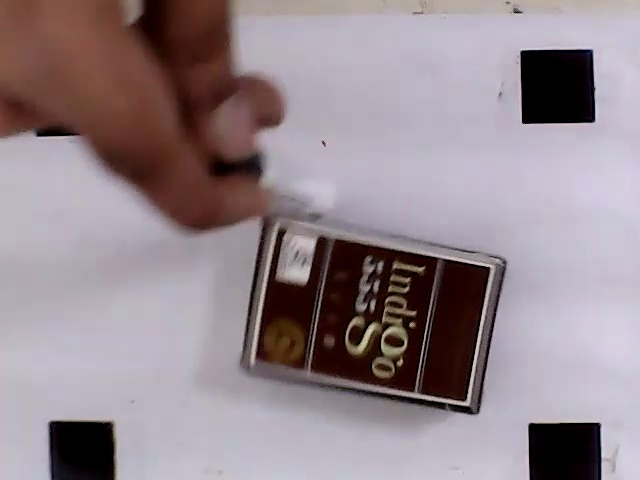BEX: (255, 223, 491, 405)
